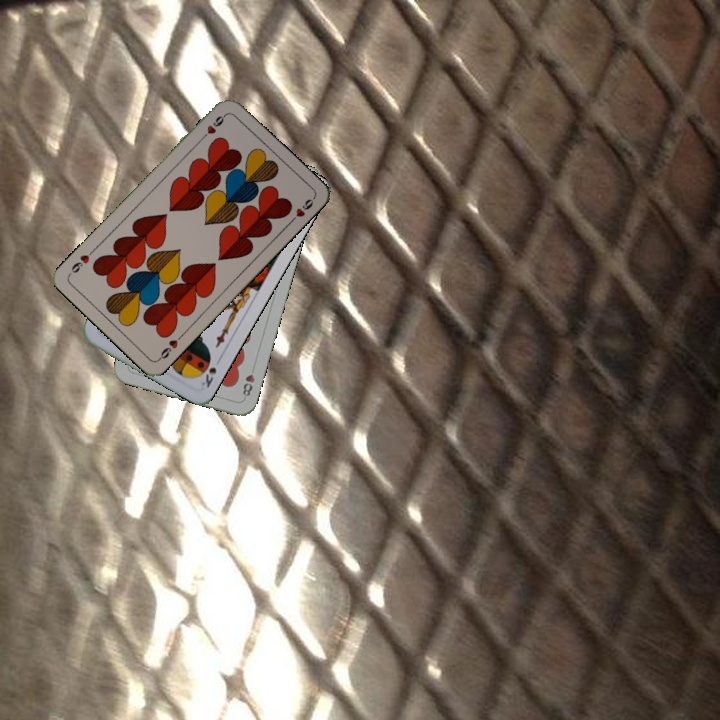H8: (238, 362, 257, 399)
H9: (154, 330, 186, 363), (197, 110, 229, 143)
SK: (197, 353, 224, 390)
